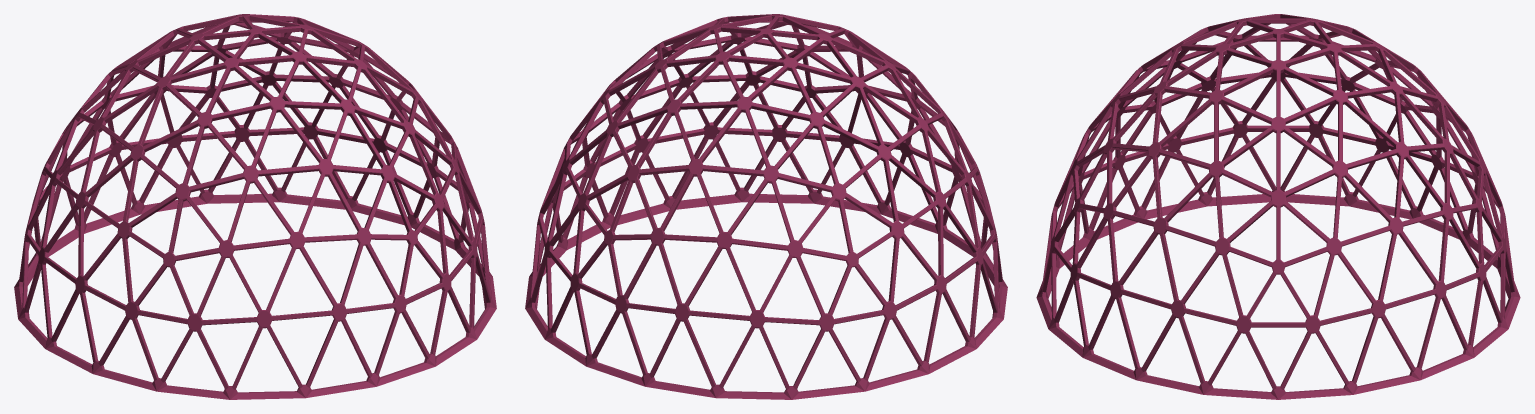
Rendered from SM_jungleGym.fbx.
3 views of the same model, side by side, from view 1: azimuth 30°, elevation 25°; view 2: azimuth 150°, elevation 25°; view 3: azimuth 270°, elevation 25° (orthographic).
Visible parts, largest first — view 1: SM_jungleGym; view 2: SM_jungleGym; view 3: SM_jungleGym.
Part boxes in pixels (bbox=[...]): SM_jungleGym: bbox=[14, 14, 496, 399]; SM_jungleGym: bbox=[525, 14, 1007, 399]; SM_jungleGym: bbox=[1036, 14, 1520, 399].
Bounding box in the file's own units: 8.16 × 4.98 × 8.16.
